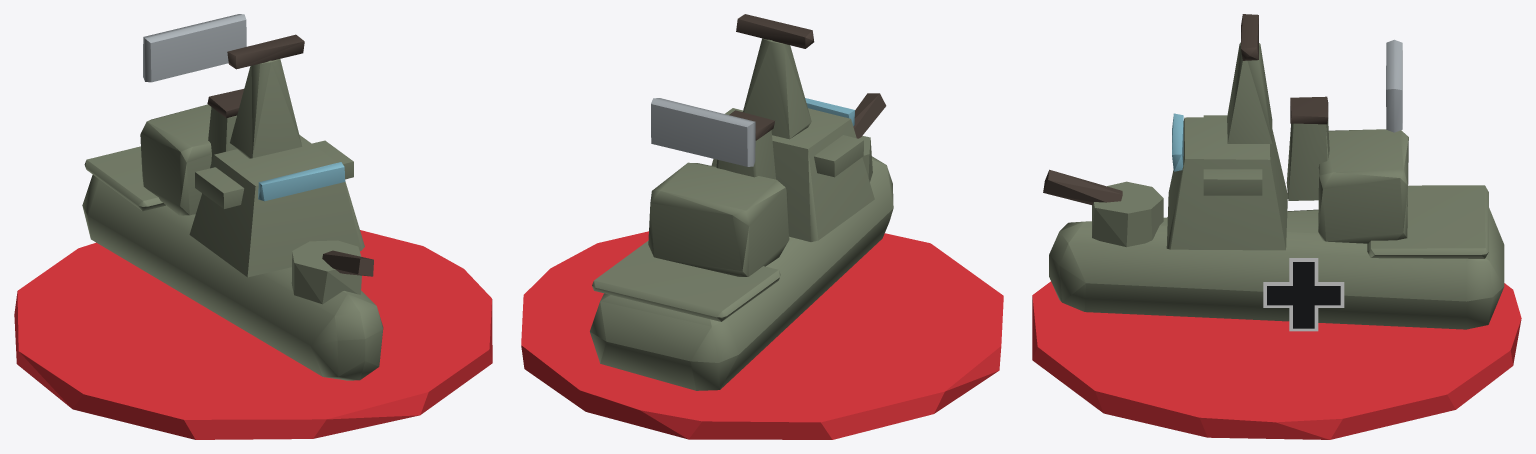
The model's file is germany_navy_lod1.glb.
The picture shows the model from 3 angles, left to right: view 1: azimuth 30°, elevation 25°; view 2: azimuth 150°, elevation 25°; view 3: azimuth 270°, elevation 25°; orthographic projection.
Parts seen in each view (by area): view 1: body_hull, base_pedestal; view 2: body_hull, base_pedestal; view 3: body_hull, base_pedestal.
Boxes of the visible parts, bbox=[...] form: body_hull: bbox=[82, 14, 383, 380]; base_pedestal: bbox=[14, 230, 492, 439]; body_hull: bbox=[590, 14, 893, 390]; base_pedestal: bbox=[521, 231, 1003, 439]; body_hull: bbox=[1043, 14, 1504, 331]; base_pedestal: bbox=[1032, 281, 1521, 439].
Size of the model in its own units: 0.7751 by 0.536 by 0.7751.
